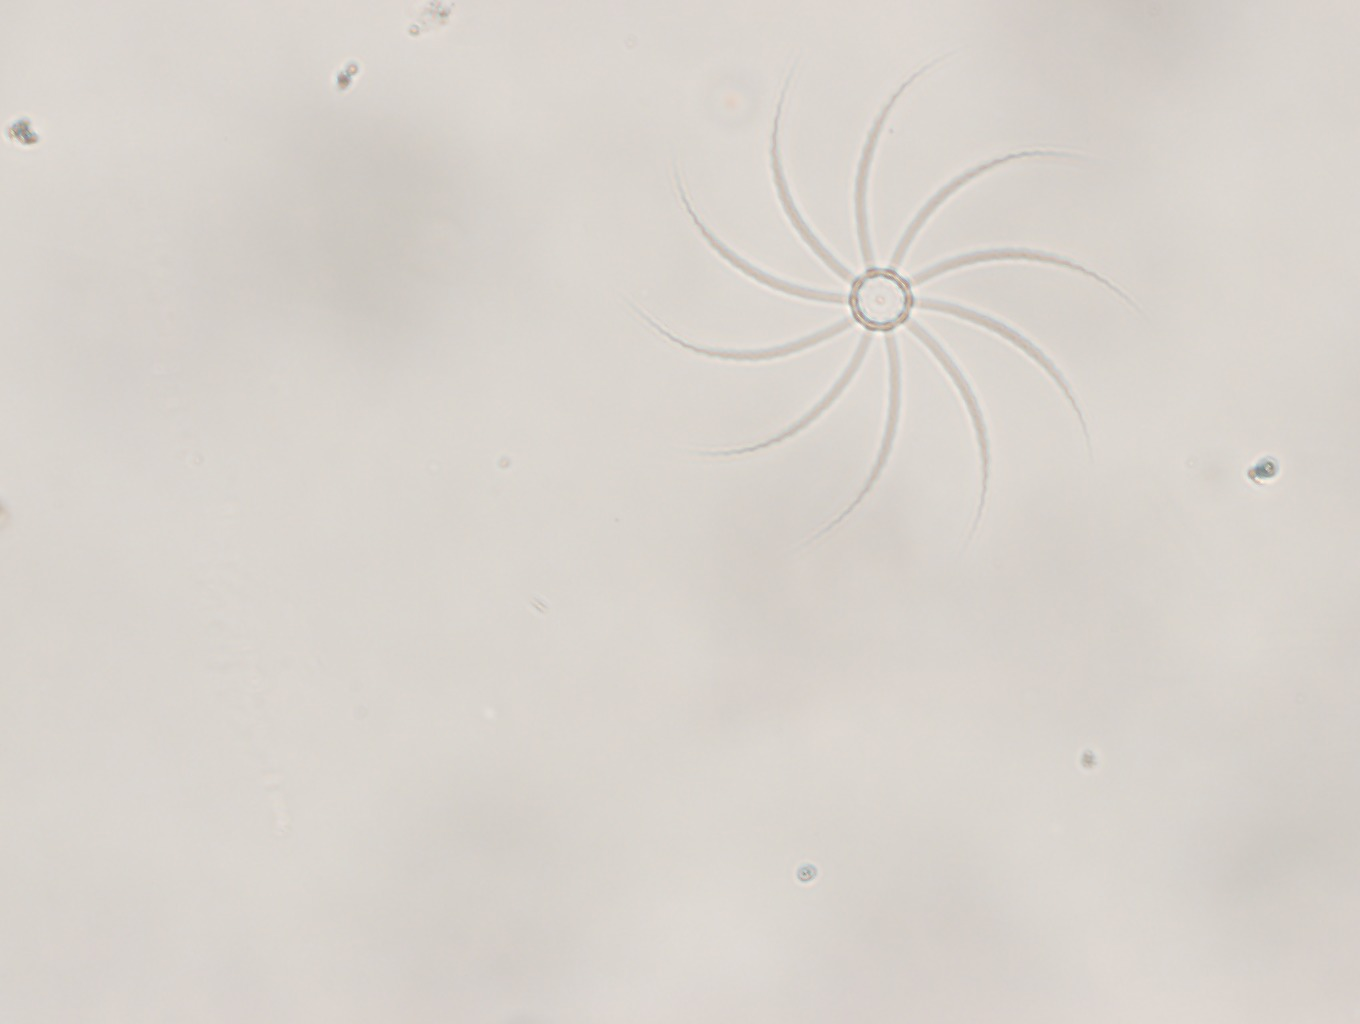bacteriastrum: (646, 62, 1147, 543)
